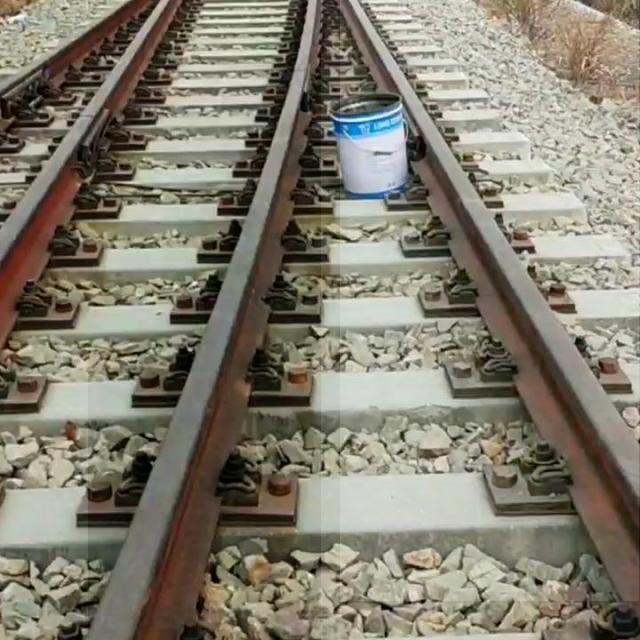rail: (342, 1, 640, 602), (90, 1, 322, 640), (2, 1, 182, 346), (2, 2, 153, 118)
